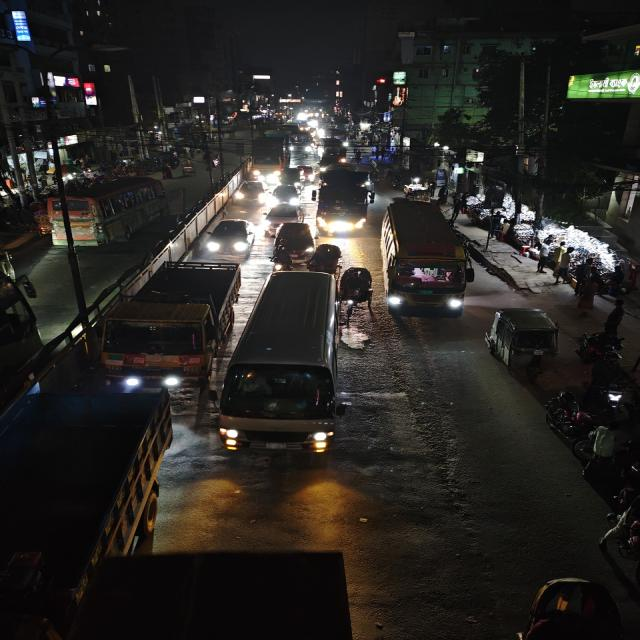bus: (222, 272, 343, 457), (379, 198, 471, 318), (36, 174, 165, 250), (285, 130, 315, 156)
car: (204, 216, 258, 258), (273, 221, 316, 269), (261, 203, 304, 233), (234, 178, 268, 206), (270, 183, 303, 207)
cng: (482, 304, 565, 378)
motorcycle: (593, 380, 628, 412)
pedestrian: (574, 278, 601, 316), (601, 299, 629, 333)
pickup_van: (1, 390, 178, 572), (97, 259, 242, 387)
rickshaw: (338, 264, 373, 312), (307, 241, 343, 275)
truck: (315, 166, 376, 236), (248, 137, 286, 180)
